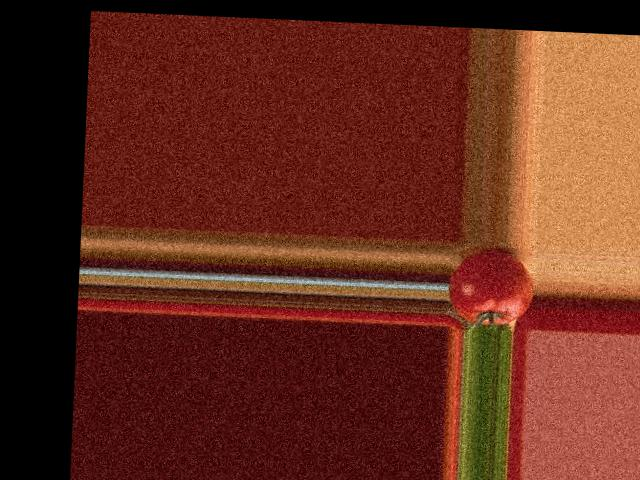tomato: (447, 249, 535, 326)
